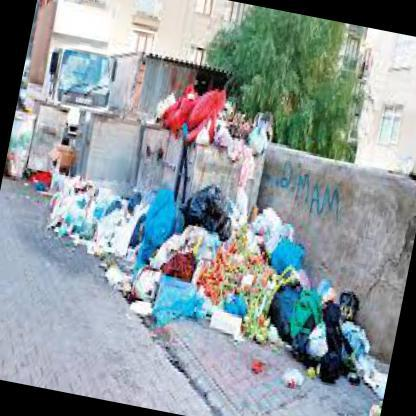Garbage: (122, 190, 312, 344), (272, 277, 388, 386), (39, 163, 141, 260), (150, 72, 229, 141), (214, 102, 274, 154)
